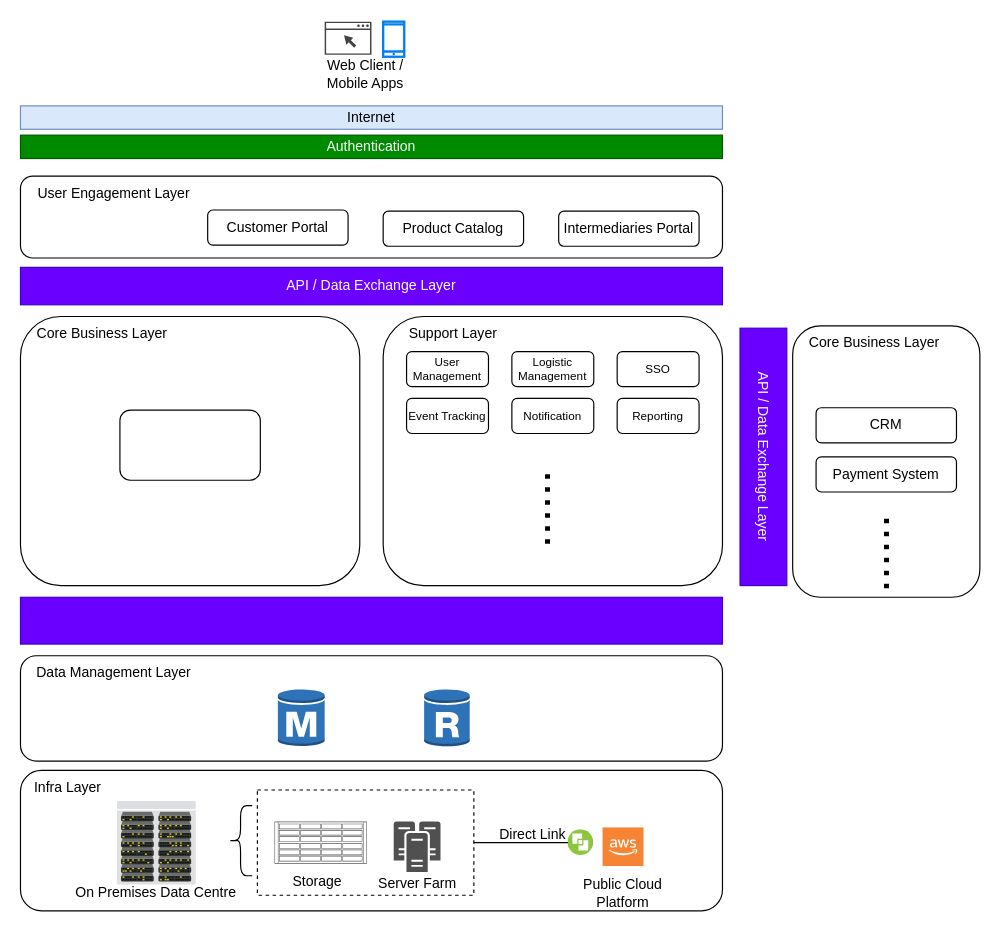
Some shapes in this 1000 by 931 pixel diagram are drawn without their labels. Each missing label, with the centre of its shape:
"Core Business Logic" belongs at point (189, 444).
"Data Exchange Layer" belongs at point (370, 620).
